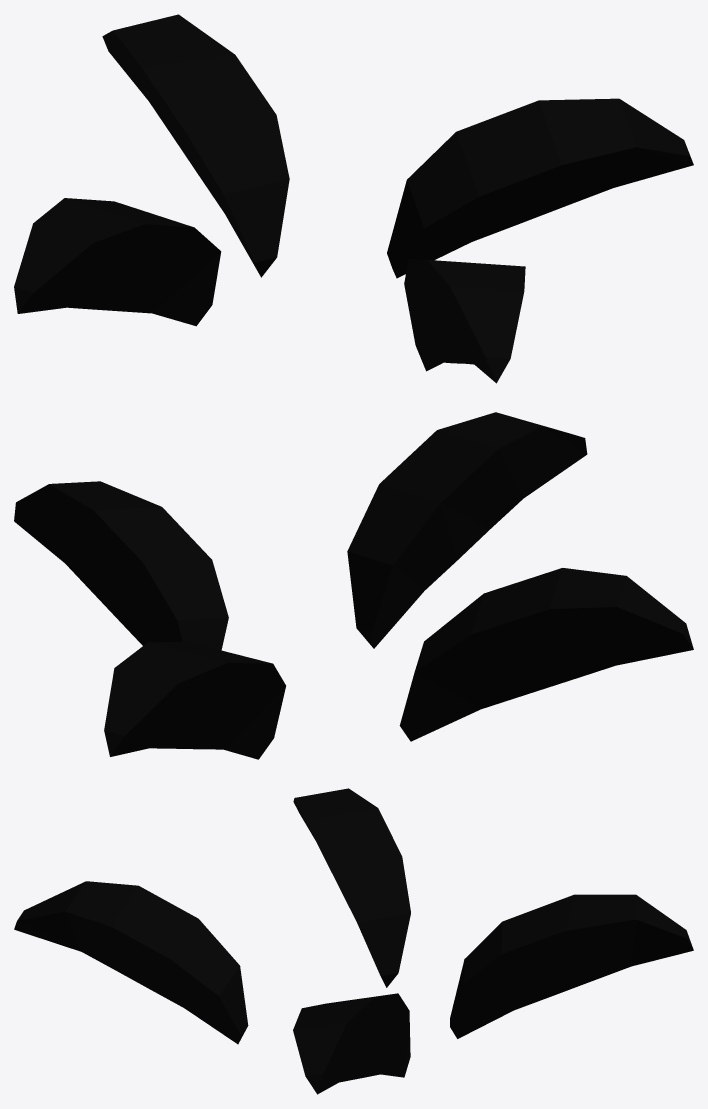
File: impact_09.glb
The picture shows the model from 3 angles, top to bottom: view 1: azimuth 30°, elevation 25°; view 2: azimuth 150°, elevation 25°; view 3: azimuth 270°, elevation 25°; orthographic projection. The views are drawn at different scales.
Size of the model in its own units: 3.79 by 0.9478 by 4.2.
Materials: 1 (1 with a texture image).
